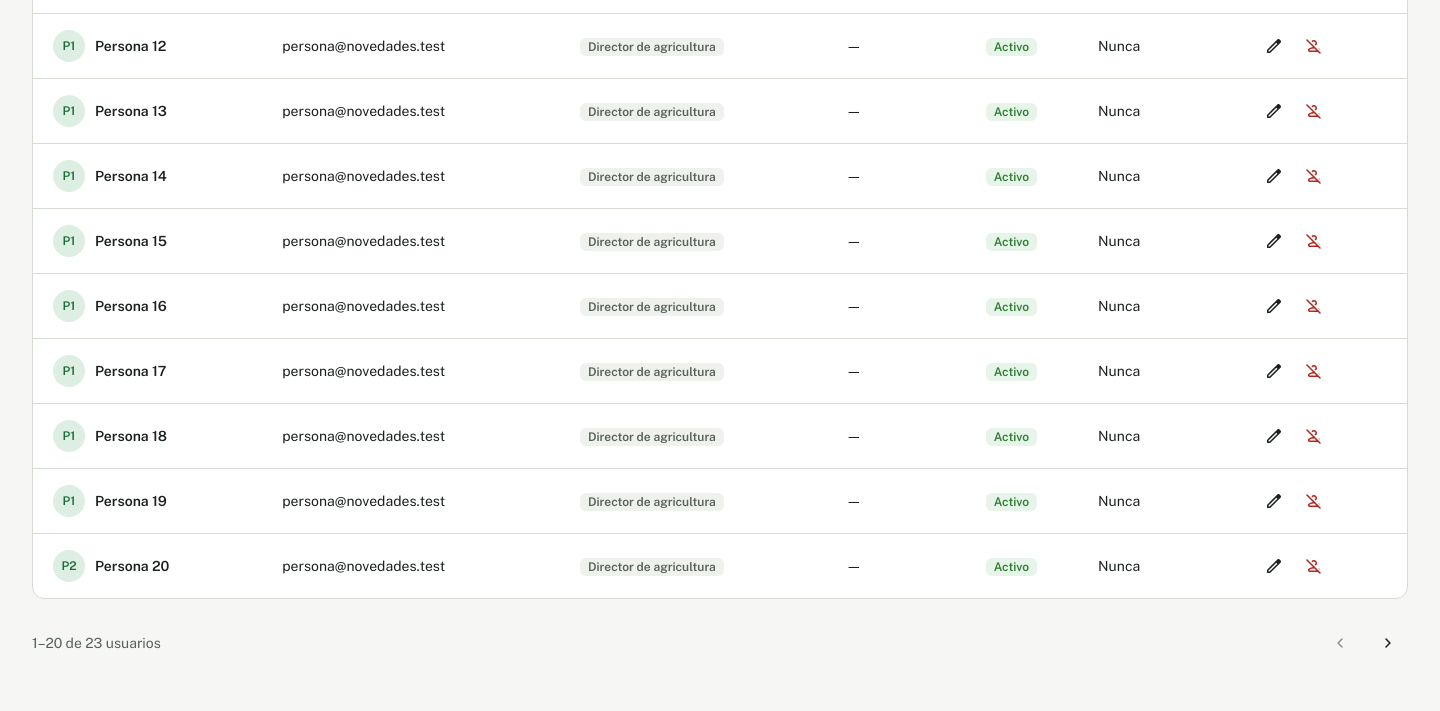
Test: Pantalla 28 · Usuarios (RF-03 / CU-03 2) › RF-03: pagina de a 20, con el rango y las flechas
(page scrolled)
Check: the text "1–20 de 23 usuarios" is shown, box left=32, top=633, right=161, bottom=653
Check: the button named "Página anterior" is disabled, box left=1320, top=623, right=1360, bottom=663
Click the button named "Página siguiente": click(1388, 643) left=1368, top=623, right=1408, bottom=663
(page scrolled)
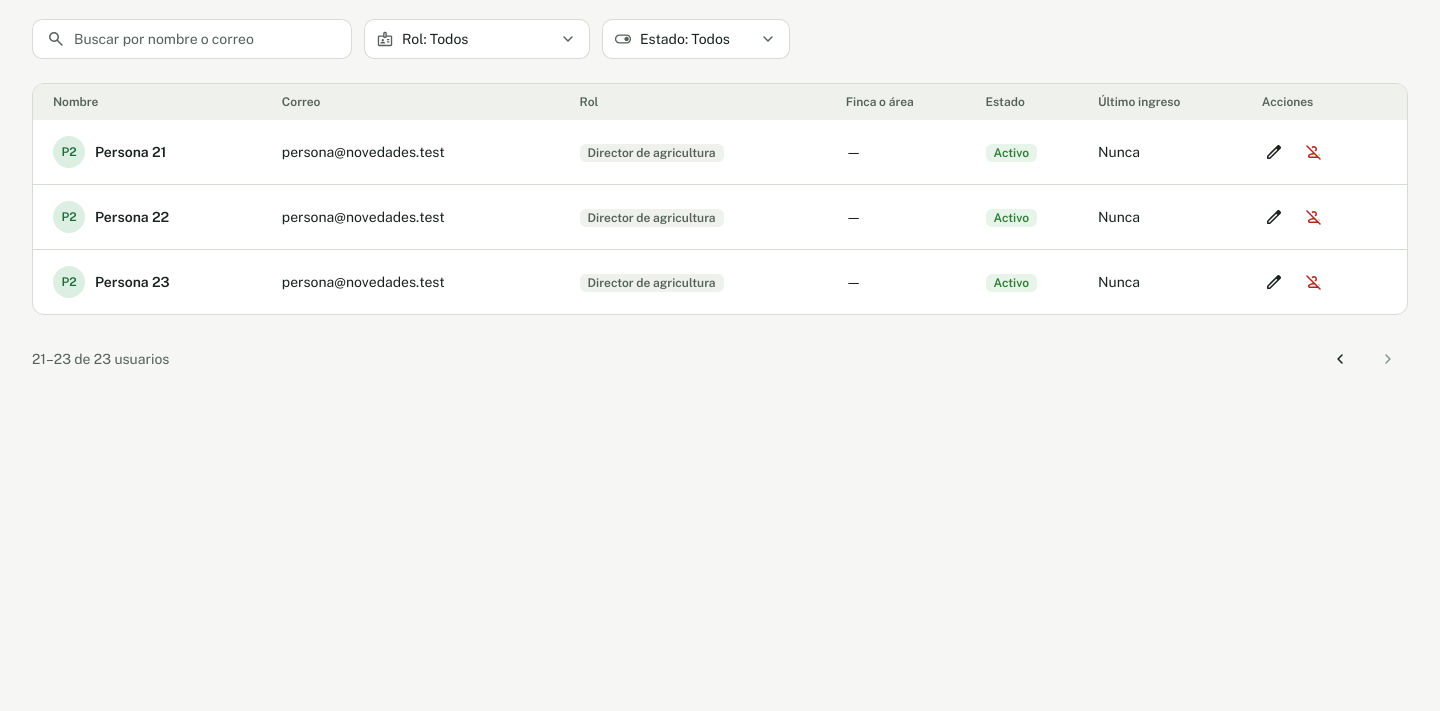
Check: the text "21–23 de 23 usuarios" is shown, box left=32, top=349, right=169, bottom=369
